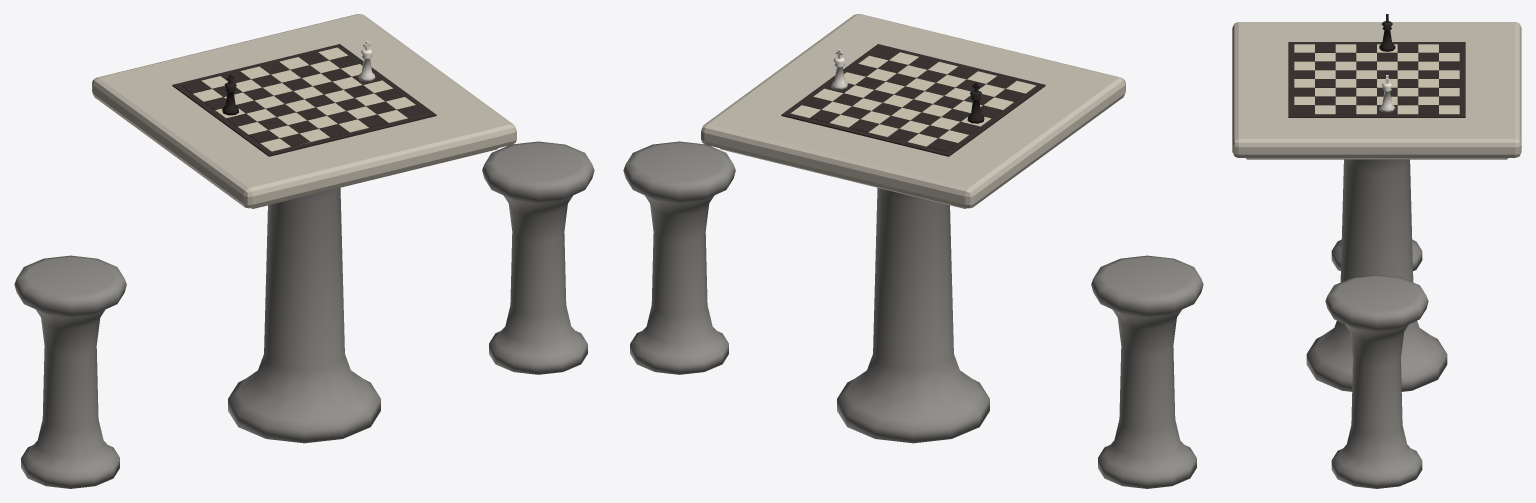
The model's file is parkChessTable.far.glb.
3 renders of one model, left to right at view 1: azimuth 30°, elevation 25°; view 2: azimuth 150°, elevation 25°; view 3: azimuth 270°, elevation 25°, orthographic. The views are drawn at different scales.
Visible parts, largest first — view 1: parkChessTable_far; view 2: parkChessTable_far; view 3: parkChessTable_far.
Part boxes in pixels (<box>): parkChessTable_far: <box>14,14,594,488</box>; parkChessTable_far: <box>623,14,1203,488</box>; parkChessTable_far: <box>1232,14,1521,488</box>.
Bounding box in the file's own units: 1.45 × 0.855 × 0.7.
